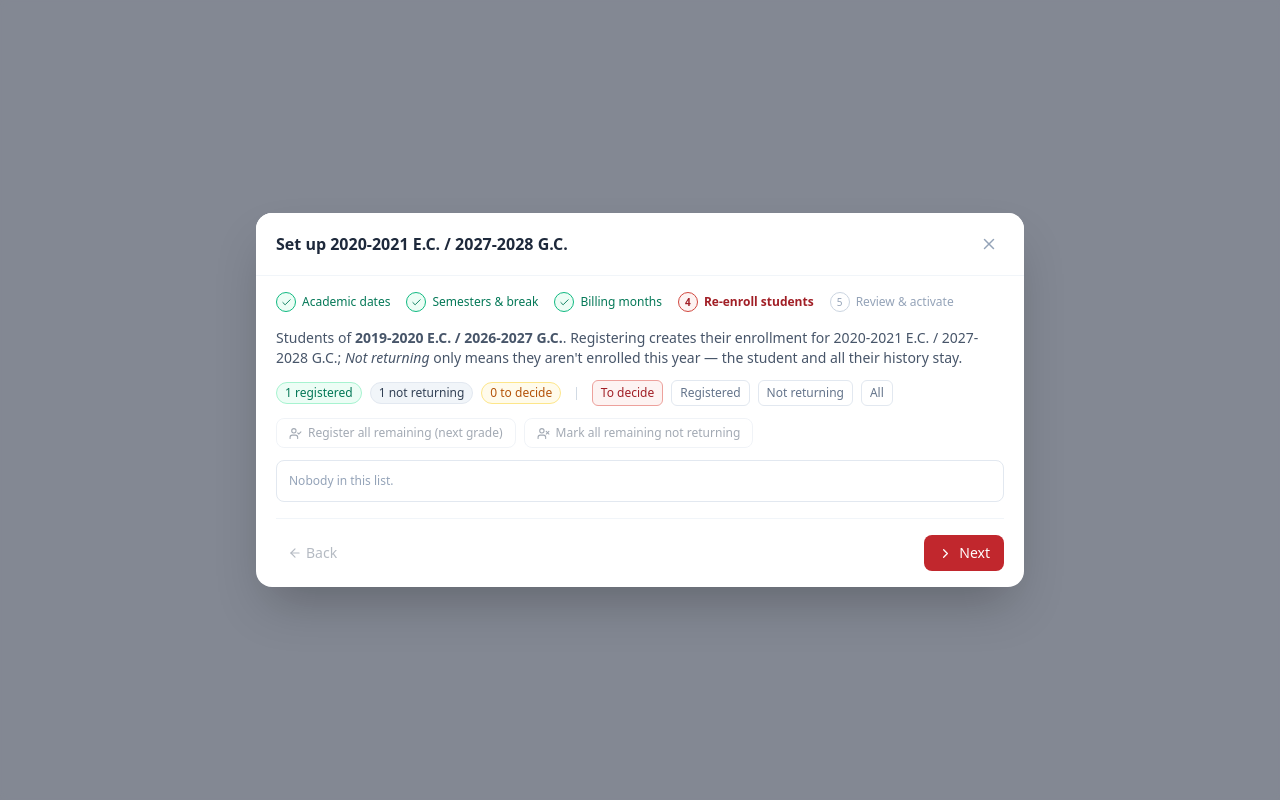
it: Create Next Academic Year wizard › a registered student shows their new grade; a not-returning one can still be registered instead (same person)
Step 1. Click the button "All" → (877, 393), box [861, 380, 893, 406]
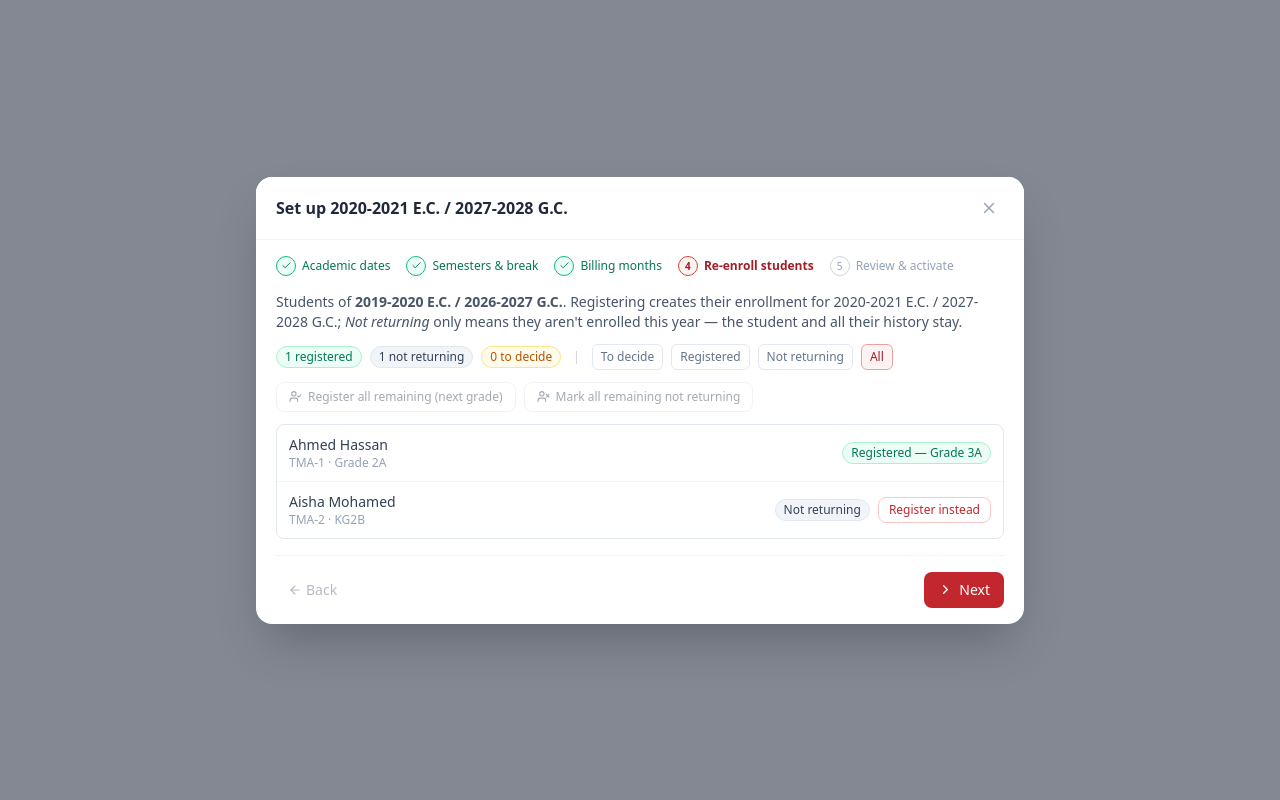
Check: the text "Registered — Grade 3A" is shown, box [842, 442, 991, 464]
Check: the text "Not returning" in the row of "Aisha Mohamed" is shown, box [784, 500, 861, 518]
Check: the button "Register instead" is shown, box [878, 496, 991, 522]
